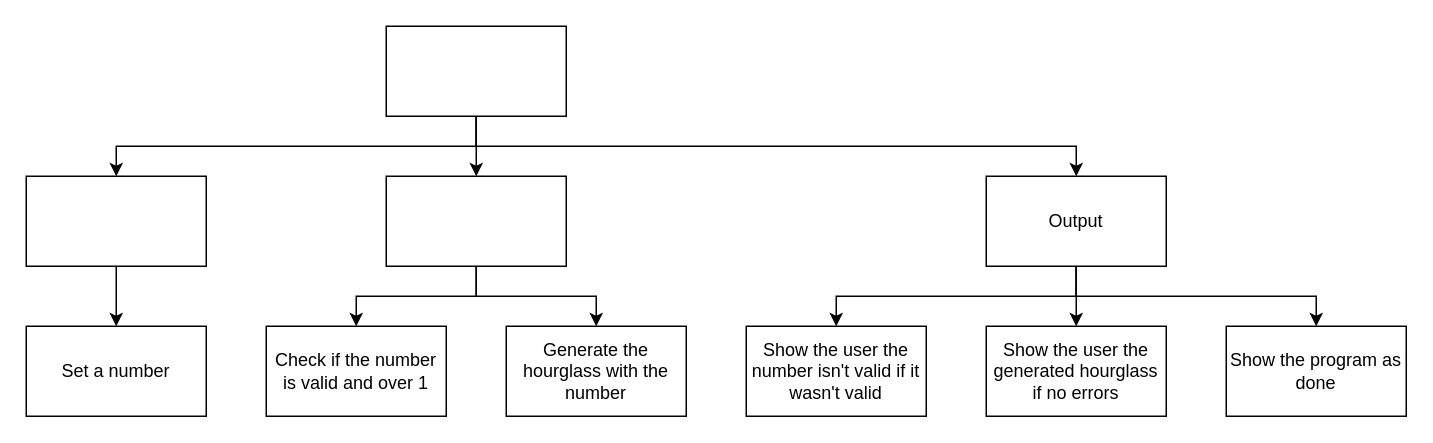
Image size: 1433x443. Some labels were removed from this diagram. The centre of each missing label's shape, as x and y in pixels:
Generating an hourglass: the point at 475,70
Input: the point at 115,220
Process: the point at 475,220
